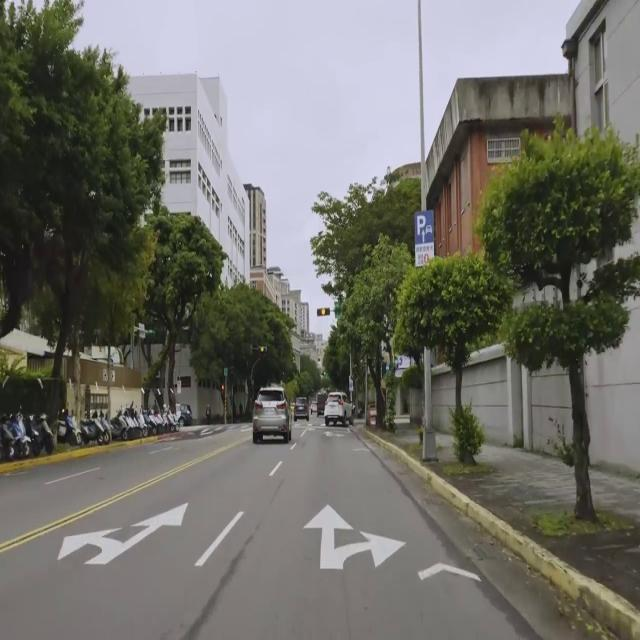yellow light: (316, 307, 330, 316), (258, 346, 267, 353)
